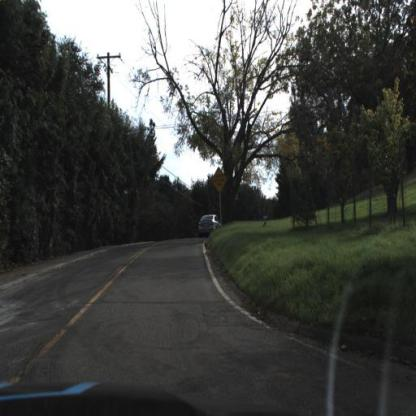car: (200, 215, 223, 240)
